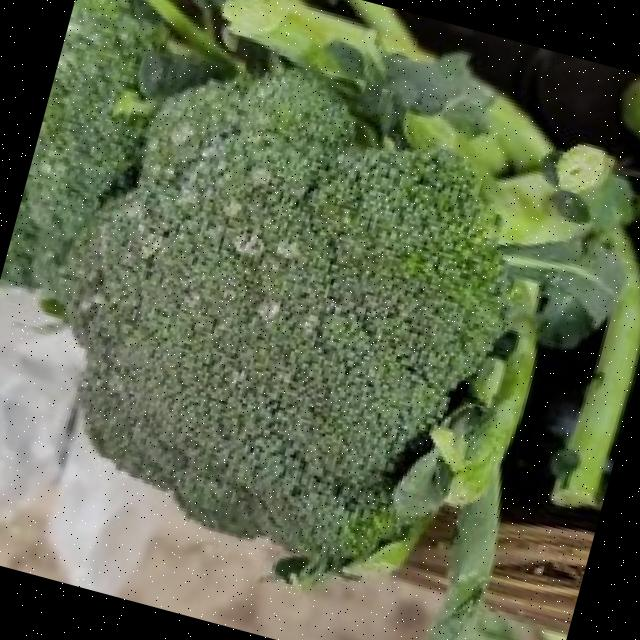Broccoli: (70, 71, 506, 565), (70, 76, 507, 562), (0, 0, 162, 293), (0, 0, 162, 293)
